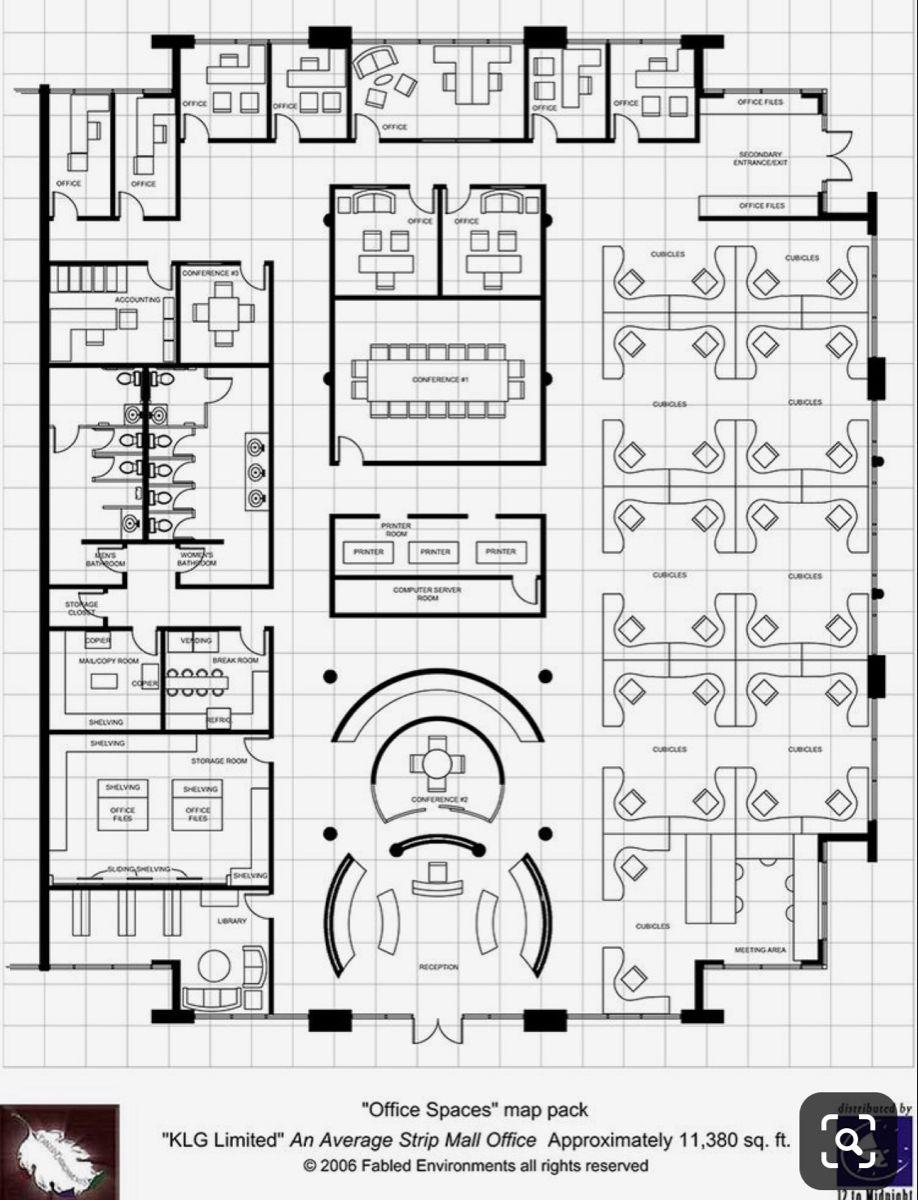room: (332, 296, 544, 464), (45, 732, 271, 888), (45, 886, 273, 1017), (146, 365, 270, 584), (45, 365, 145, 586), (349, 41, 527, 140), (698, 91, 824, 219), (46, 262, 179, 365), (332, 516, 544, 576), (46, 627, 163, 733), (331, 186, 439, 297), (441, 184, 543, 298), (163, 628, 272, 732), (179, 262, 271, 366), (177, 40, 270, 141), (607, 41, 698, 141), (44, 90, 113, 220), (112, 90, 178, 219), (331, 576, 545, 615), (527, 41, 608, 141), (269, 41, 349, 141)
